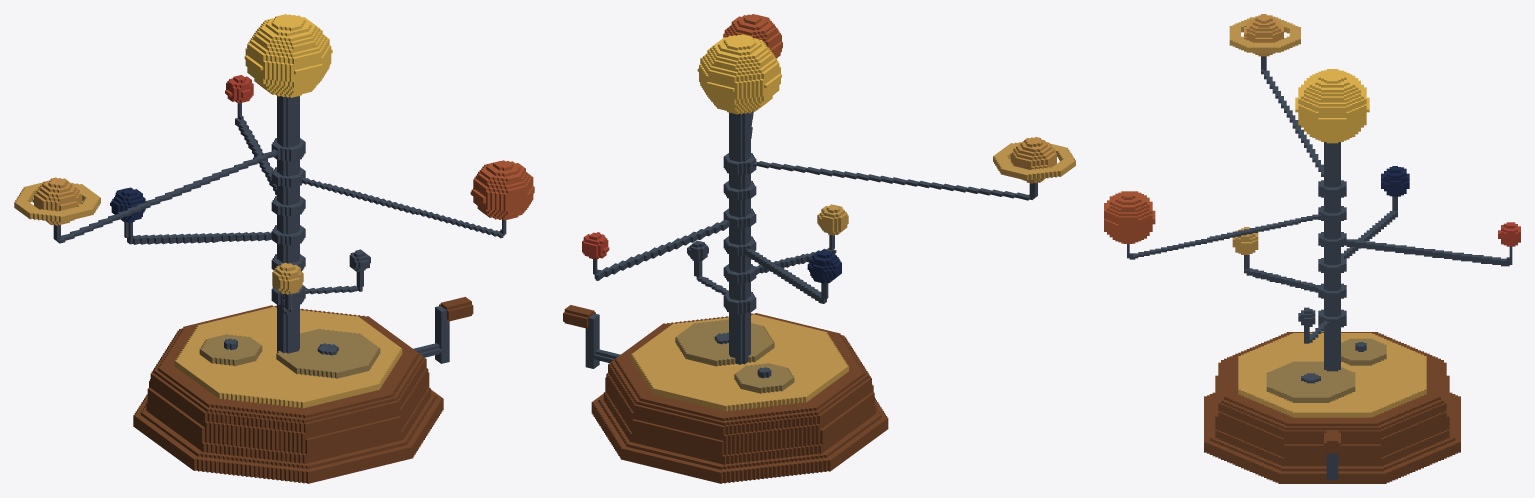
Rendered from orrery.glb.
3 renders of one model, left to right at view 1: azimuth 30°, elevation 25°; view 2: azimuth 150°, elevation 25°; view 3: azimuth 270°, elevation 25°, orthographic. The views are drawn at different scales.
Parts seen in each view (by area): view 1: orrery:compound; view 2: orrery:compound; view 3: orrery:compound.
Part boxes in pixels (<box>): orrery:compound: <box>14,14,534,483</box>; orrery:compound: <box>563,14,1075,483</box>; orrery:compound: <box>1104,14,1520,483</box>.
Bounding box in the file's own units: 0.7 × 0.548 × 0.584.
